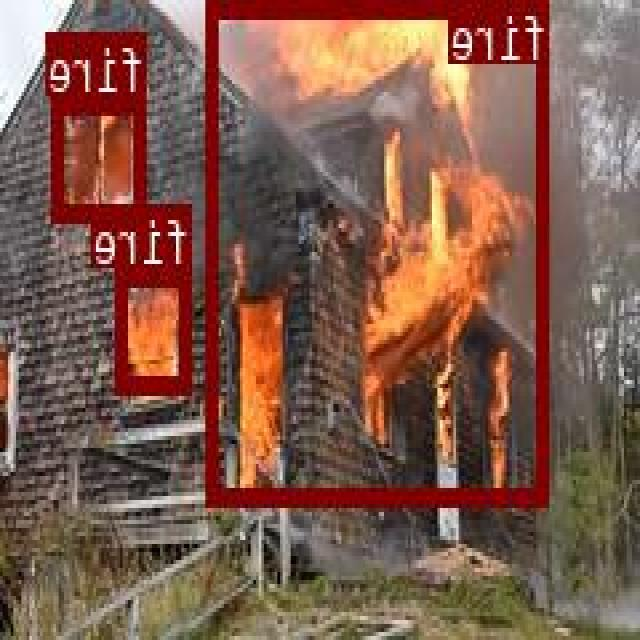fire: (211, 0, 549, 504), (54, 93, 147, 217), (119, 266, 192, 392)
